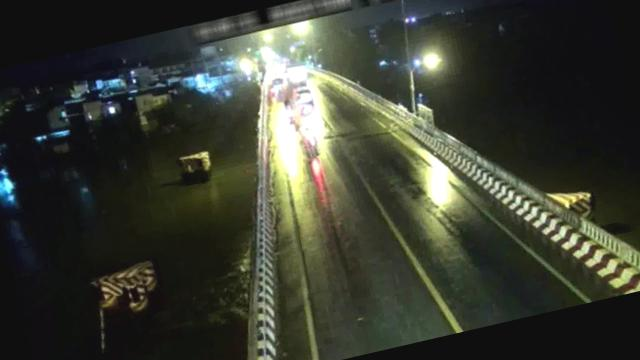Bike: (300, 122, 322, 160)
